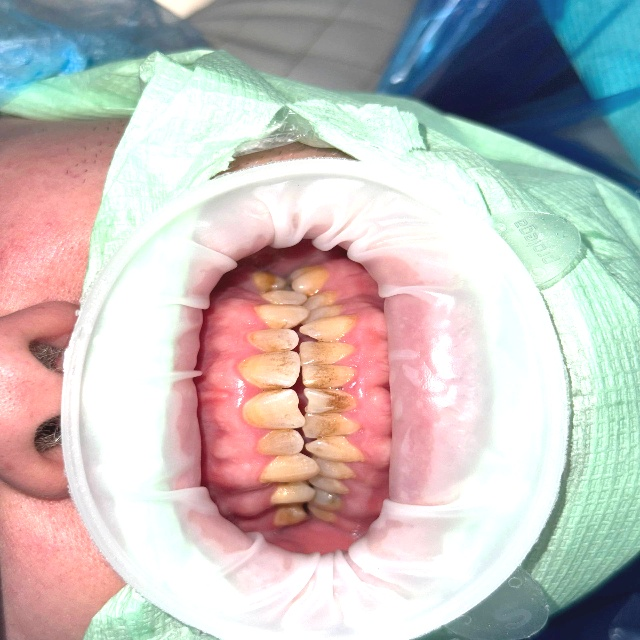clean_tooth: (269, 393, 304, 425)
plaque: (377, 0, 564, 97), (0, 0, 203, 78), (529, 87, 639, 193)
